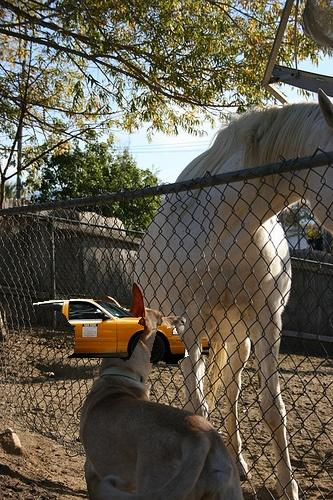tampered: (34, 300, 209, 364)
